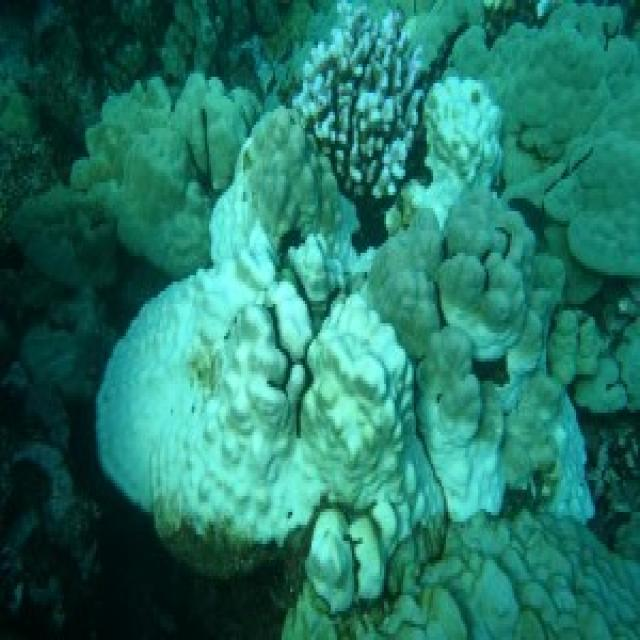Bleached: (268, 81, 626, 523), (97, 263, 323, 548), (451, 11, 639, 276), (74, 75, 259, 276), (293, 1, 423, 193), (302, 295, 413, 510), (285, 497, 440, 638), (417, 78, 500, 215), (519, 375, 594, 523), (421, 388, 504, 513), (212, 139, 276, 289), (406, 561, 515, 635), (306, 510, 385, 612)
